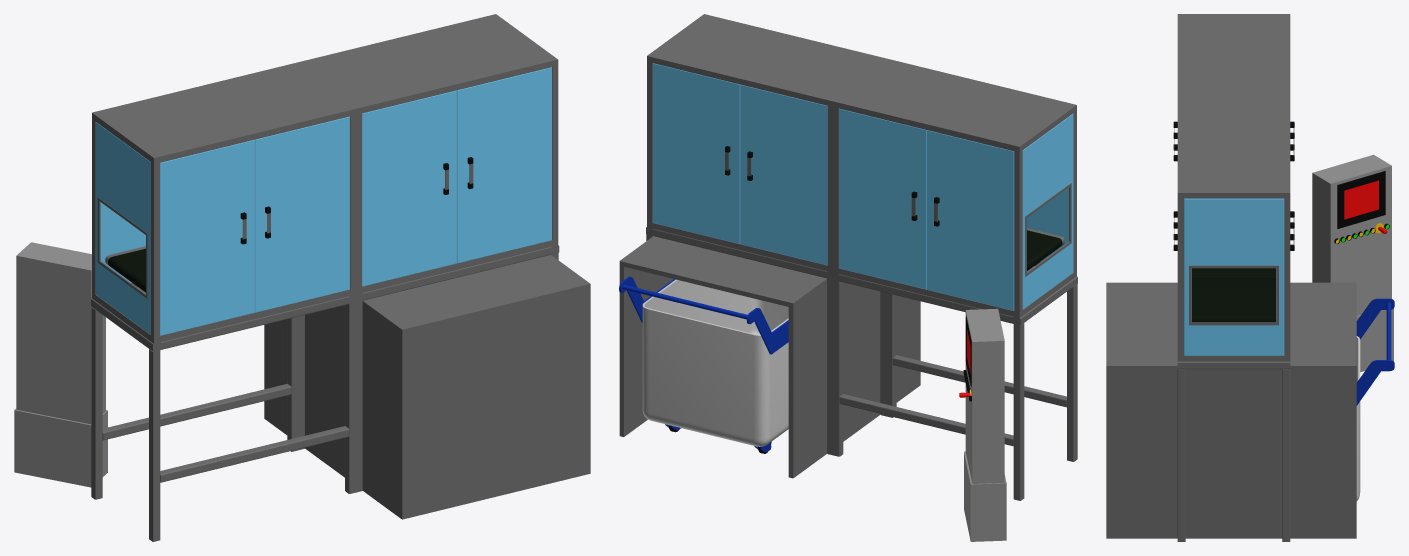
The model's file is VARPE.FBX.
3 views of the same model, side by side, from view 1: azimuth 30°, elevation 25°; view 2: azimuth 150°, elevation 25°; view 3: azimuth 270°, elevation 25° (orthographic). The views are drawn at different scales.
Visible parts, largest first — view 1: Box056, Box033, Box100, Box009, Box013, Box037, Box012, Box036, Box032, Box054, Box004, Box034 (+2 smaller); view 2: Box056, Box057, Box033, Box009, Box010, Box034, Box011, Box035, Box032, Box100, Box054, Box004 (+4 smaller); view 3: Box056, Box009, Box030, Box033, Box100, Box004, Group003, Line001, Box101, Box102, Box031, Group004 (+1 smaller).
Boxes of the visible parts, box(x1,y1,x2,y2) form: Box056: box(264, 255, 590, 519); Box033: box(92, 63, 355, 343); Box100: box(14, 242, 107, 487); Box009: box(294, 14, 558, 294); Box013: box(457, 67, 551, 263); Box037: box(160, 139, 254, 335); Box012: box(362, 90, 456, 286); Box036: box(255, 116, 349, 312); Box032: box(91, 294, 356, 541); Box054: box(95, 122, 150, 334); Box004: box(298, 245, 559, 492); Box034: box(100, 202, 145, 282); Box056: box(619, 236, 920, 478); Box057: box(642, 279, 788, 446); Box033: box(833, 59, 1076, 318); Box009: box(647, 14, 890, 272); Box010: box(652, 63, 740, 243); Box034: box(926, 130, 1014, 310); Box011: box(740, 84, 827, 265); Box035: box(839, 108, 926, 289); Box032: box(832, 273, 1077, 500); Box100: box(964, 308, 1006, 541); Box054: box(1022, 113, 1073, 309); Box004: box(646, 227, 886, 455); Box056: box(1106, 282, 1356, 538); Box009: box(1177, 103, 1290, 361); Box030: box(1183, 198, 1284, 355); Box033: box(1177, 14, 1290, 103); Box100: box(1312, 154, 1393, 372); Box004: box(1177, 361, 1290, 541); Group003: box(1192, 278, 1275, 322); Line001: box(1356, 298, 1394, 405); Box101: box(1337, 171, 1385, 228); Box102: box(1344, 180, 1378, 219); Box031: box(1189, 265, 1278, 325); Group004: box(1192, 268, 1275, 278).
Bounding box in the file's own units: 88.18 × 74.37 × 55.56.
